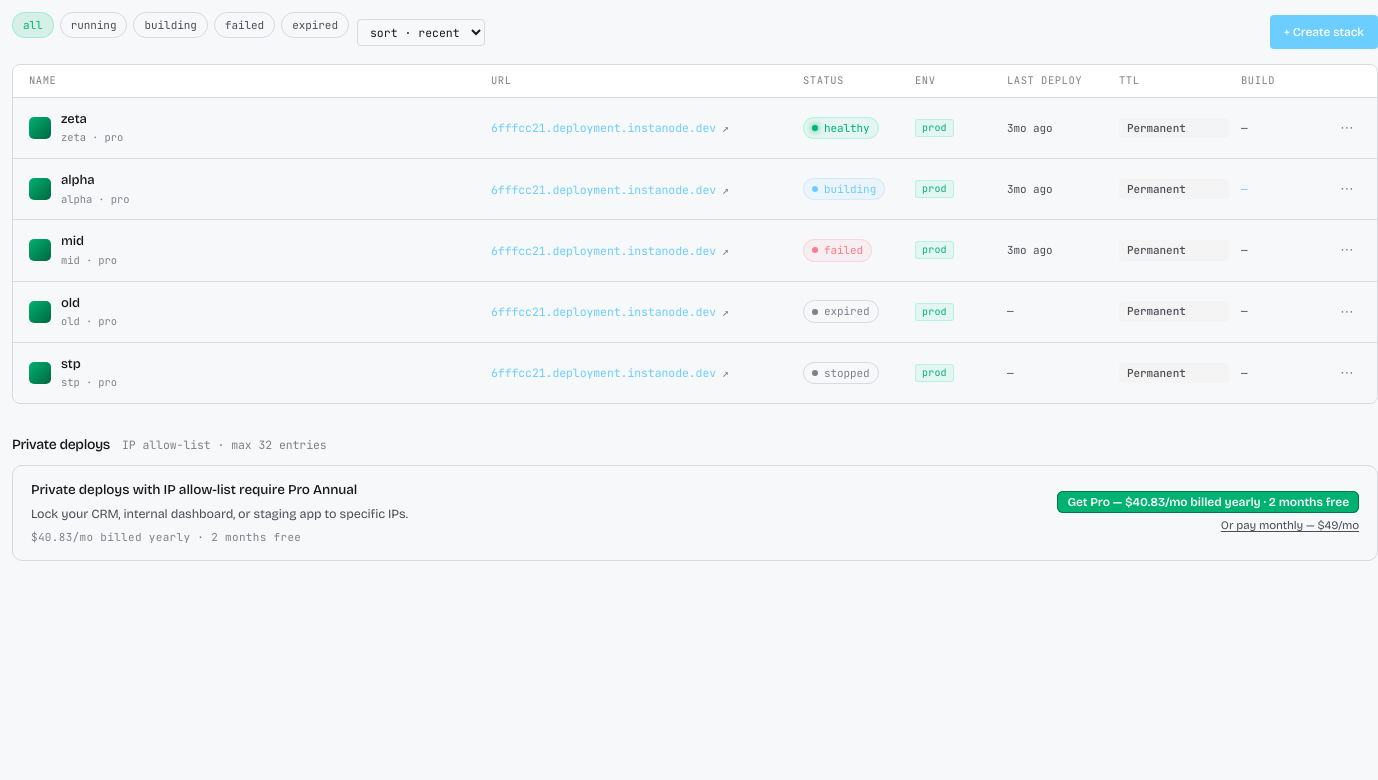
Test: DeploymentsPage — filter + sort › filters by status bucket (failed)
This screenshot has width=1378, height=780.
Expected: the text "mid" is shown, [61, 233, 84, 249]
Step 1. Click the button with test id "status-filter-failed" → [244, 25], box [214, 12, 275, 38]
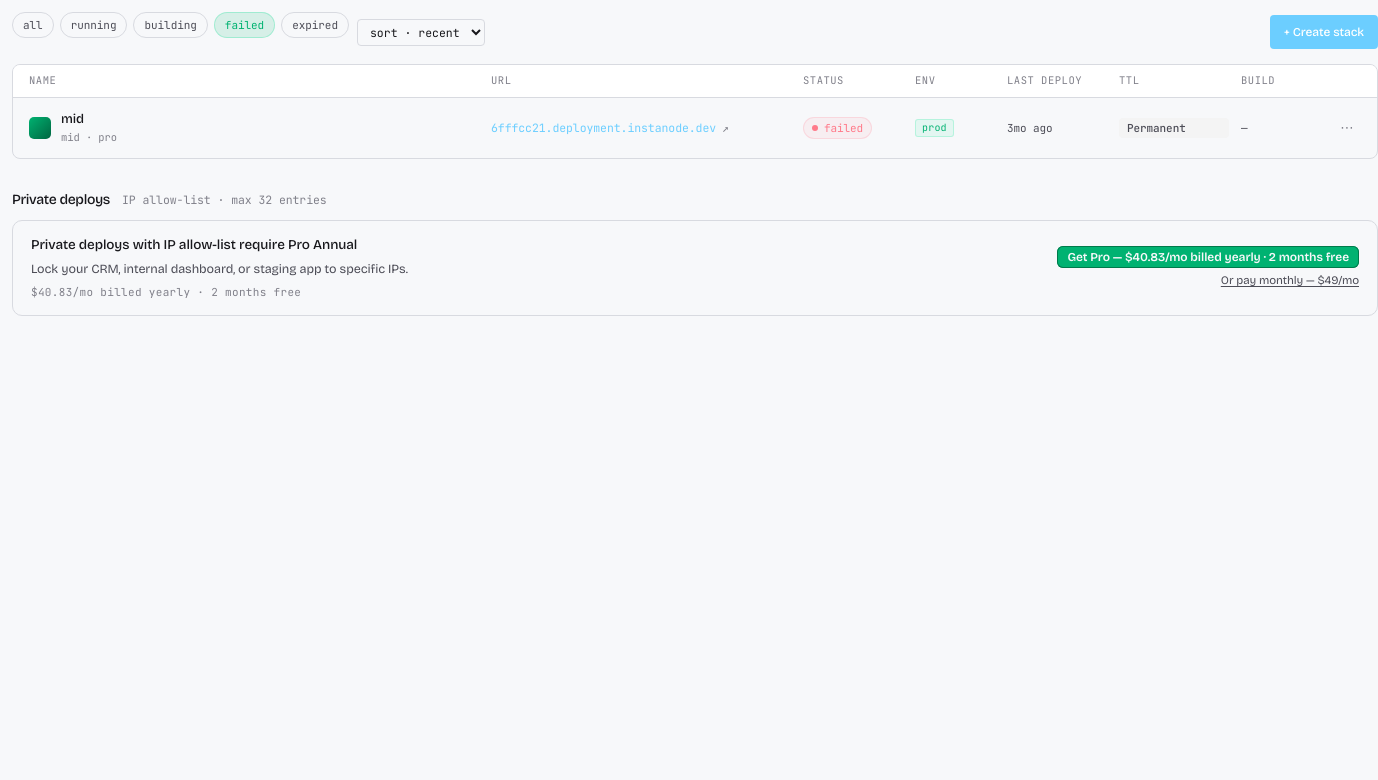
Expected: the text "mid" is shown, [61, 111, 84, 127]
Now the text with test id "deployment-row-name-r1" is gone
